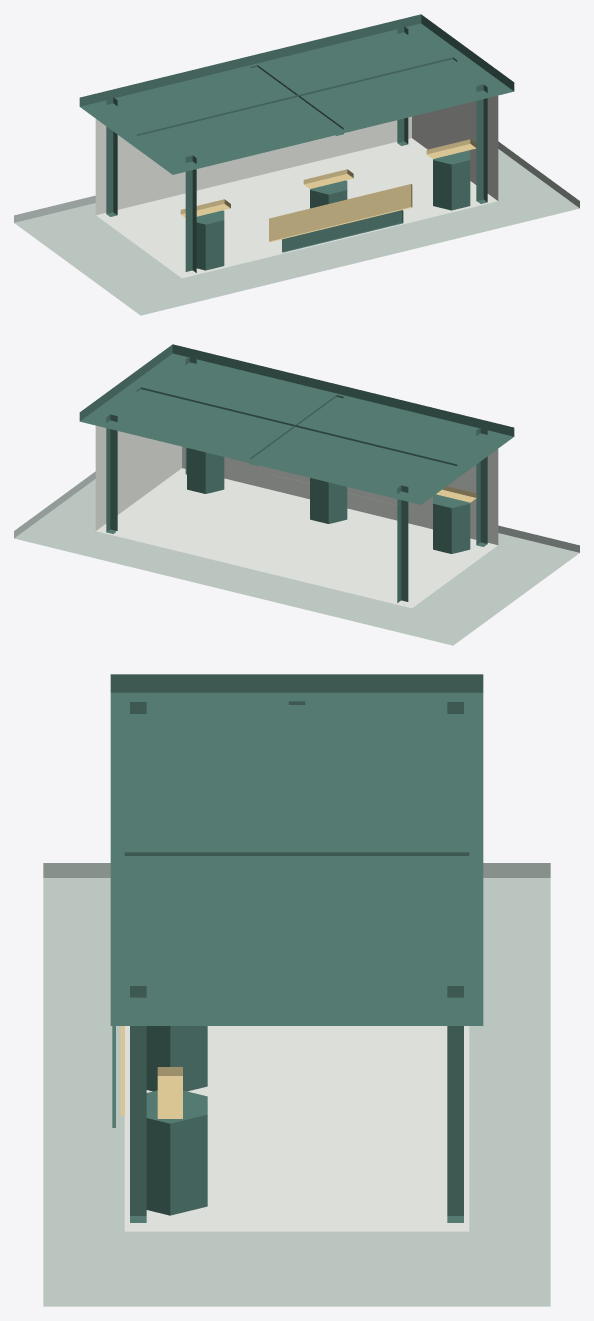
The model's file is power_substation.glb.
The picture shows the model from 3 angles, top to bottom: view 1: azimuth 30°, elevation 25°; view 2: azimuth 150°, elevation 25°; view 3: azimuth 270°, elevation 25°; orthographic projection. The views are drawn at different scales.
Parts seen in each view (by area): view 1: Roof, Walls, Foundation, Details, Frame; view 2: Roof, Walls, Foundation, Details, Frame; view 3: Roof, Foundation, Walls, Details, Frame.
Part boxes in pixels (box(x1,y1,x2,y2)): Roof: box(79, 14, 514, 174); Walls: box(95, 95, 498, 278); Foundation: box(14, 141, 579, 315); Details: box(180, 139, 476, 270); Frame: box(106, 26, 487, 272); Roof: box(79, 344, 514, 504); Walls: box(95, 425, 498, 608); Foundation: box(14, 471, 579, 645); Details: box(187, 448, 476, 553); Frame: box(106, 356, 487, 602); Roof: box(110, 674, 483, 1025); Foundation: box(43, 863, 550, 1306); Walls: box(124, 1026, 469, 1231); Details: box(112, 1026, 207, 1215); Frame: box(124, 701, 469, 1222).
Size of the model in its own units: 40 by 10.94 by 20.
